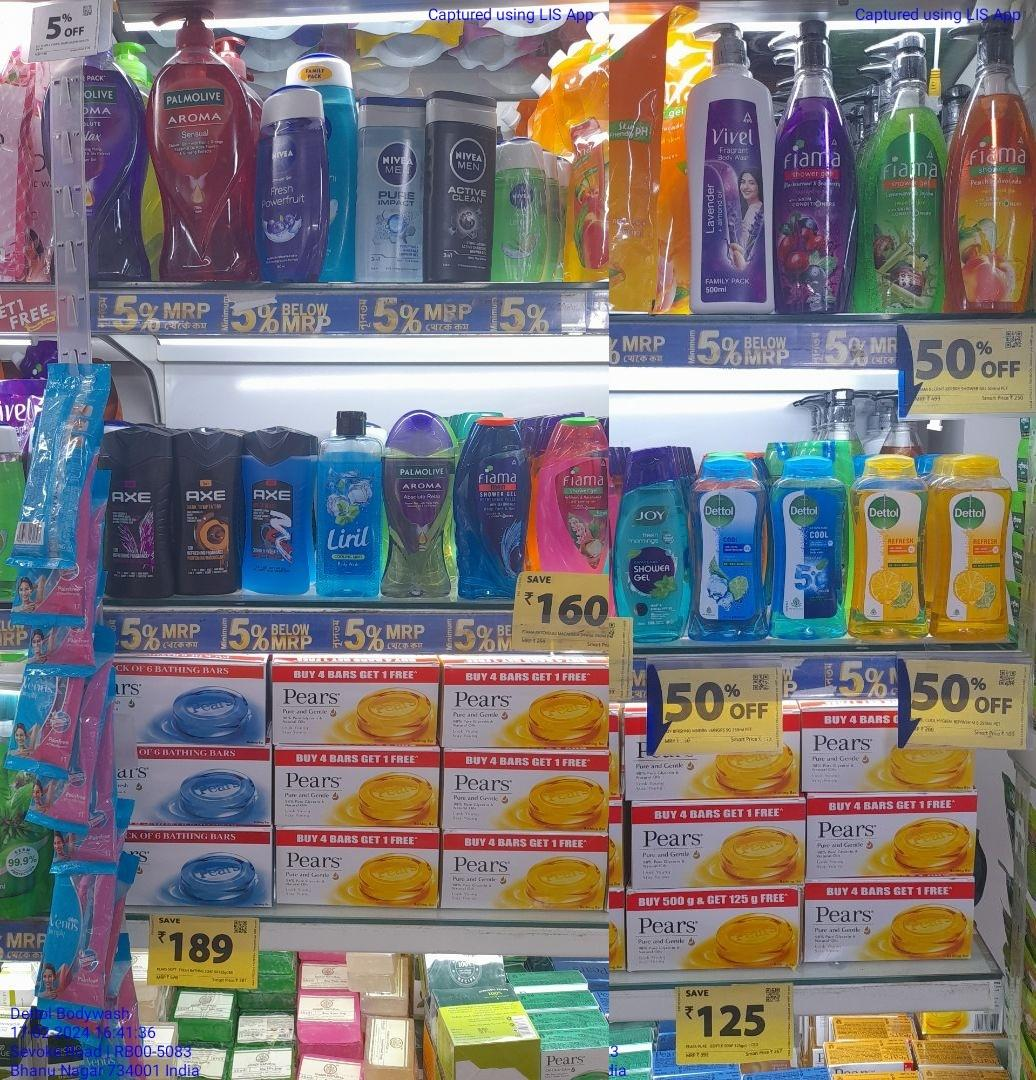Dettol_Bodywash_Cool: (690, 454, 767, 640), (774, 450, 844, 637)
Dettol_Bodywash_Refresh: (932, 451, 1012, 642), (850, 449, 929, 640)
Fiama_Shower_Gel_Patchouli_and_Macadamia_250ML: (546, 414, 609, 572)
Joy_Shower_Gel_Mint_and_Eucalyptus_250ML: (617, 445, 686, 640)
Liril_Cooling_Mint_Body_Wash_250ML: (319, 410, 384, 598)
Nivea_Shower_Gel_Fresh_Powerfruit_250ML: (255, 87, 329, 282)
Palmolive_Aroma_Morning_Tonic_Shower_Gel_250ML: (388, 413, 456, 597)
